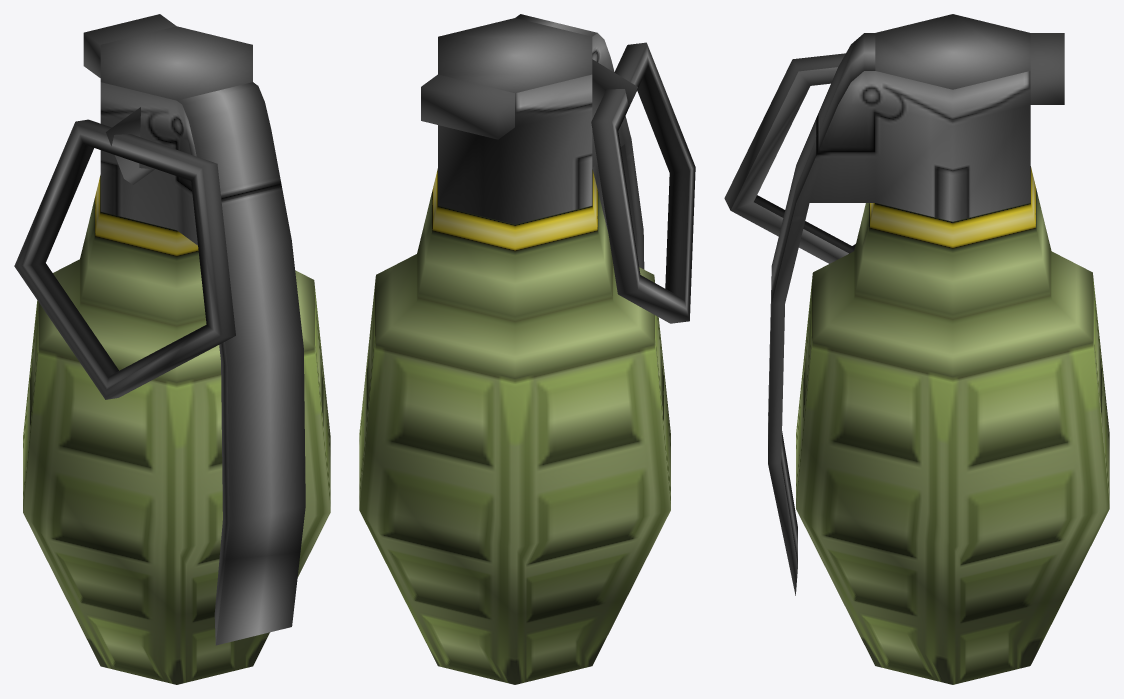
The model's file is gren.glb.
3 views of the same model, side by side, from view 1: azimuth 30°, elevation 25°; view 2: azimuth 150°, elevation 25°; view 3: azimuth 270°, elevation 25° (orthographic).
Parts seen in each view (by area): view 1: body; view 2: body; view 3: body.
Boxes of the visible parts, left/top/right/bottom form: body: left=14, top=14, right=330, bottom=684; body: left=359, top=14, right=695, bottom=684; body: left=724, top=14, right=1109, bottom=684.
Size of the model in its own units: 0.0635 by 0.1151 by 0.0675.
1 material, 1 textured.
